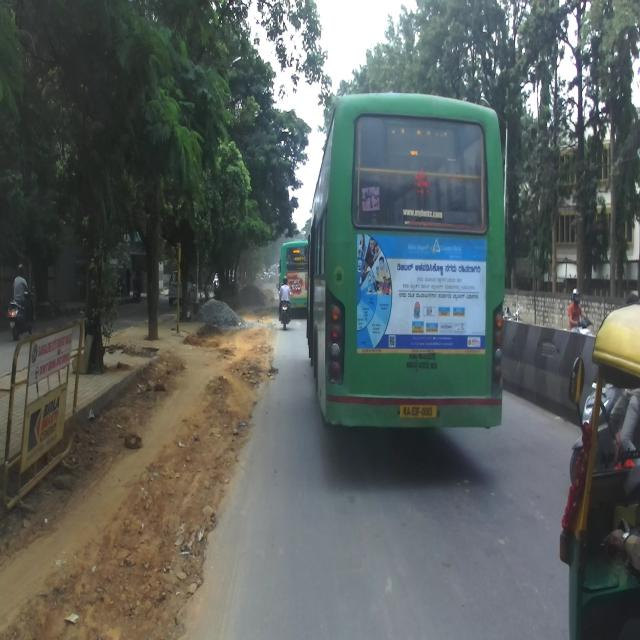autorickshaw: (558, 299, 640, 639)
bus: (308, 92, 506, 434), (279, 239, 310, 309)
car: (168, 269, 197, 305)
motorcycle: (277, 285, 292, 330)
scooter: (7, 284, 35, 341), (573, 310, 594, 336)
